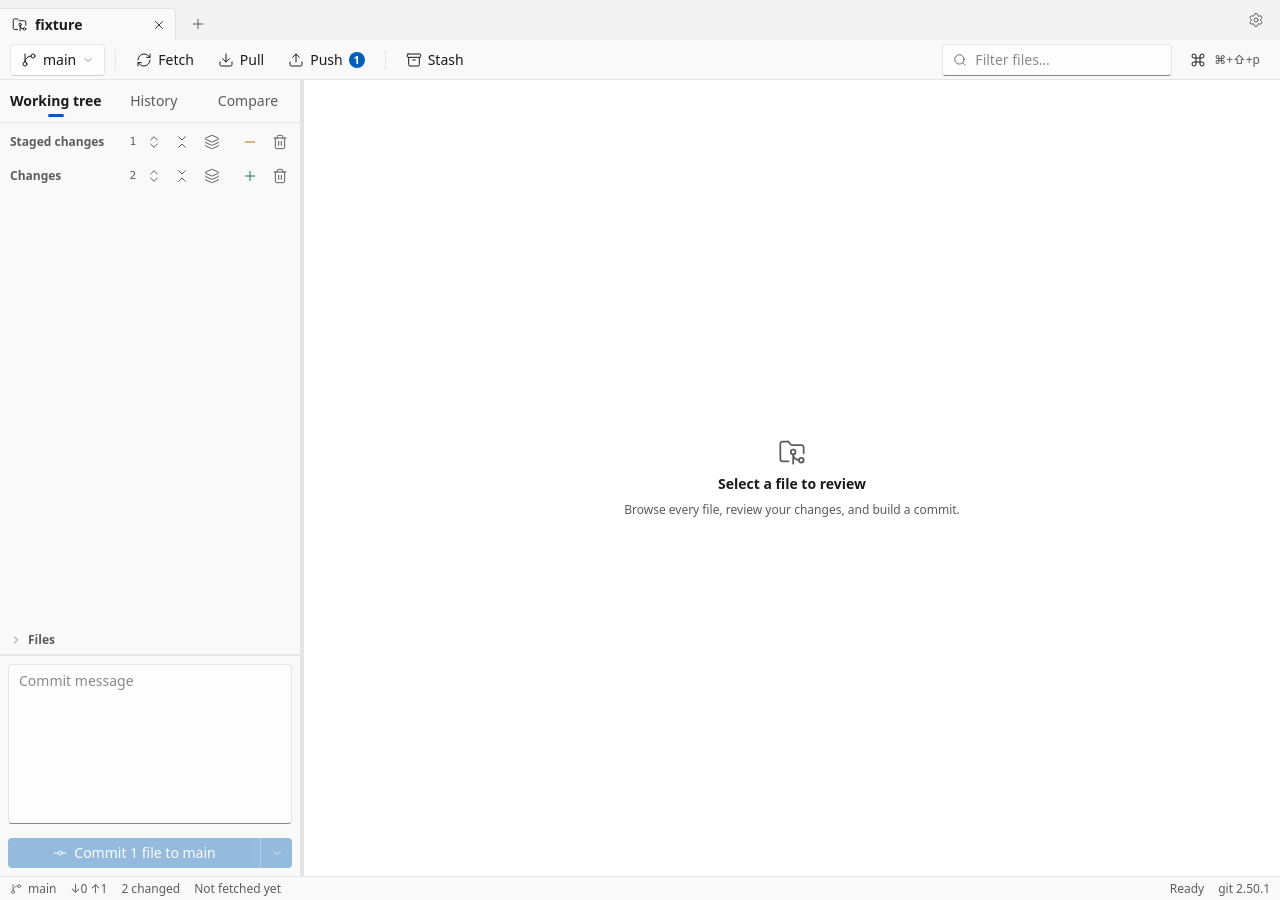
repository workflows › names a stash from its dialog and falls back to the default name
The image size is (1280, 900).
Click the button titled "Stash changes": (435, 60) [396,44,474,76]
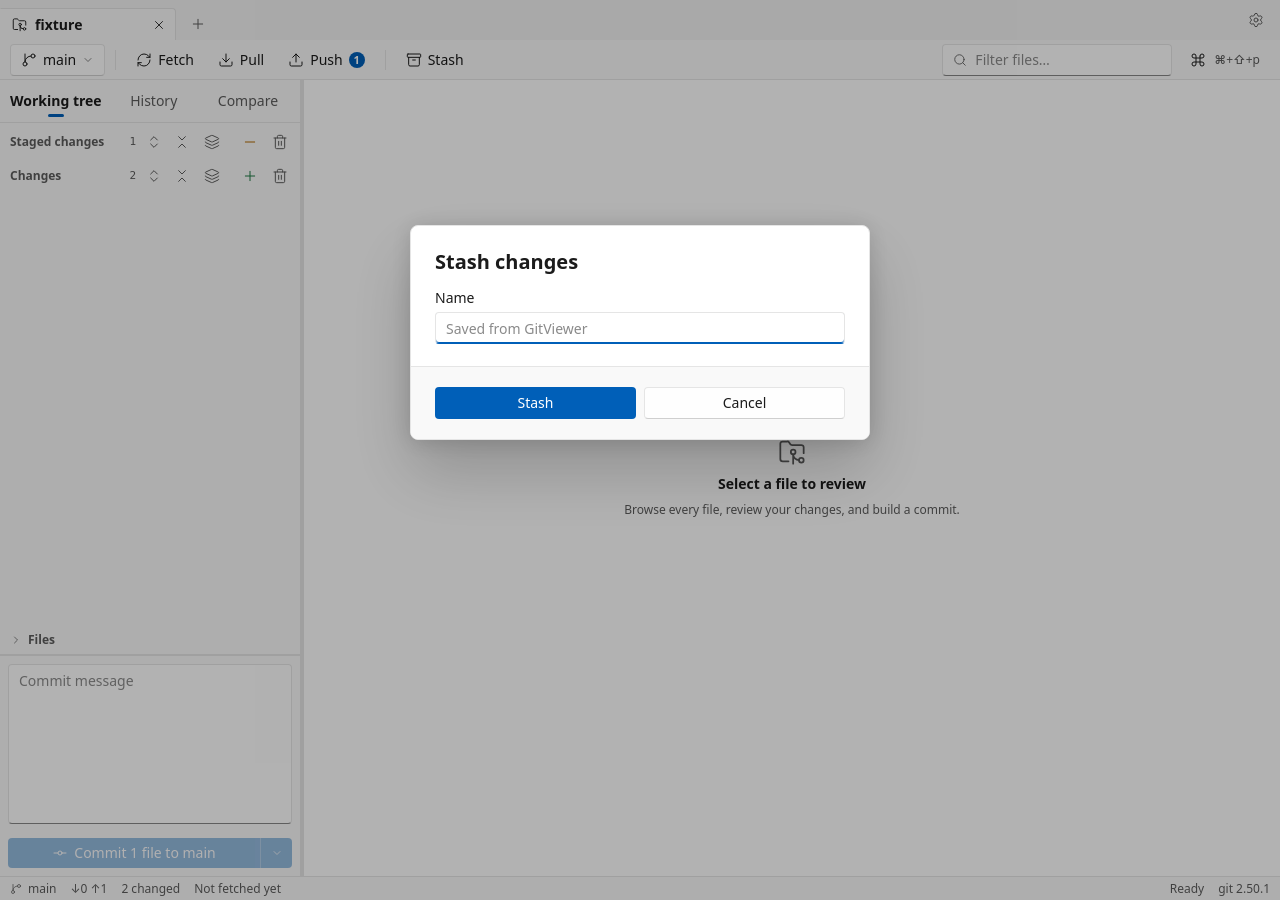
Click the button "Cancel": (744, 403) [644,387,845,419]
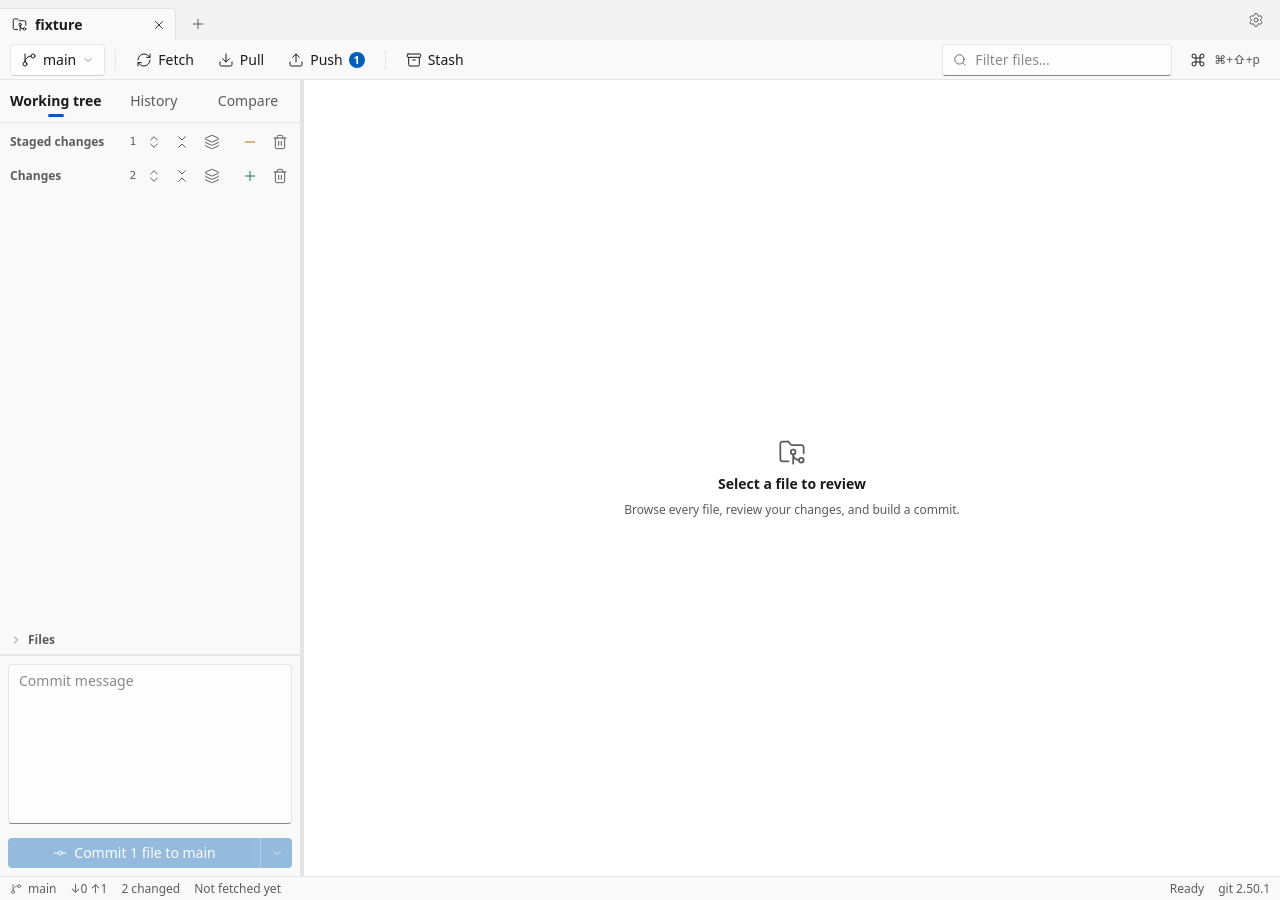
Click the button titled "Stash changes": (435, 60) [396,44,474,76]
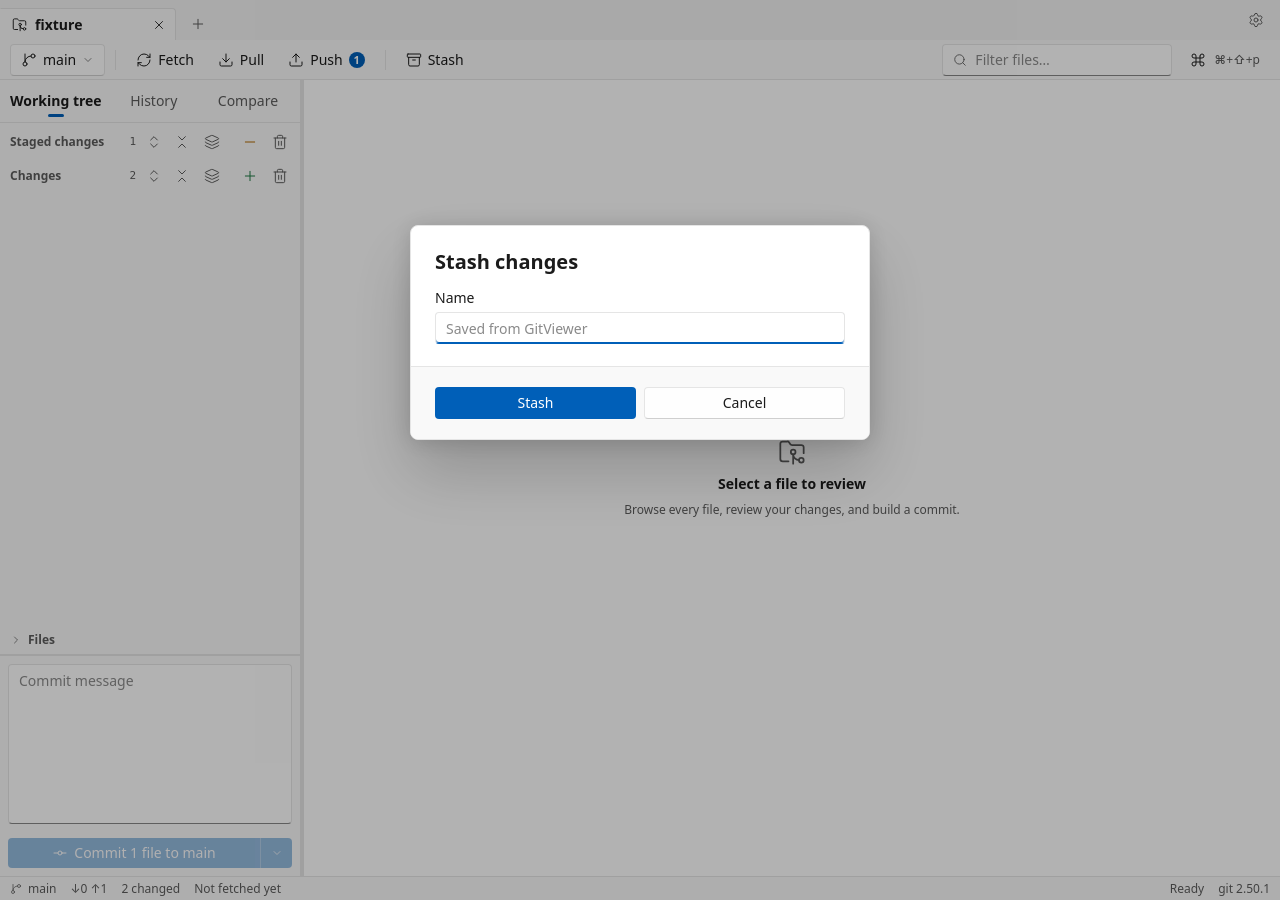
Click the button "Stash": (536, 403) [435,387,636,419]
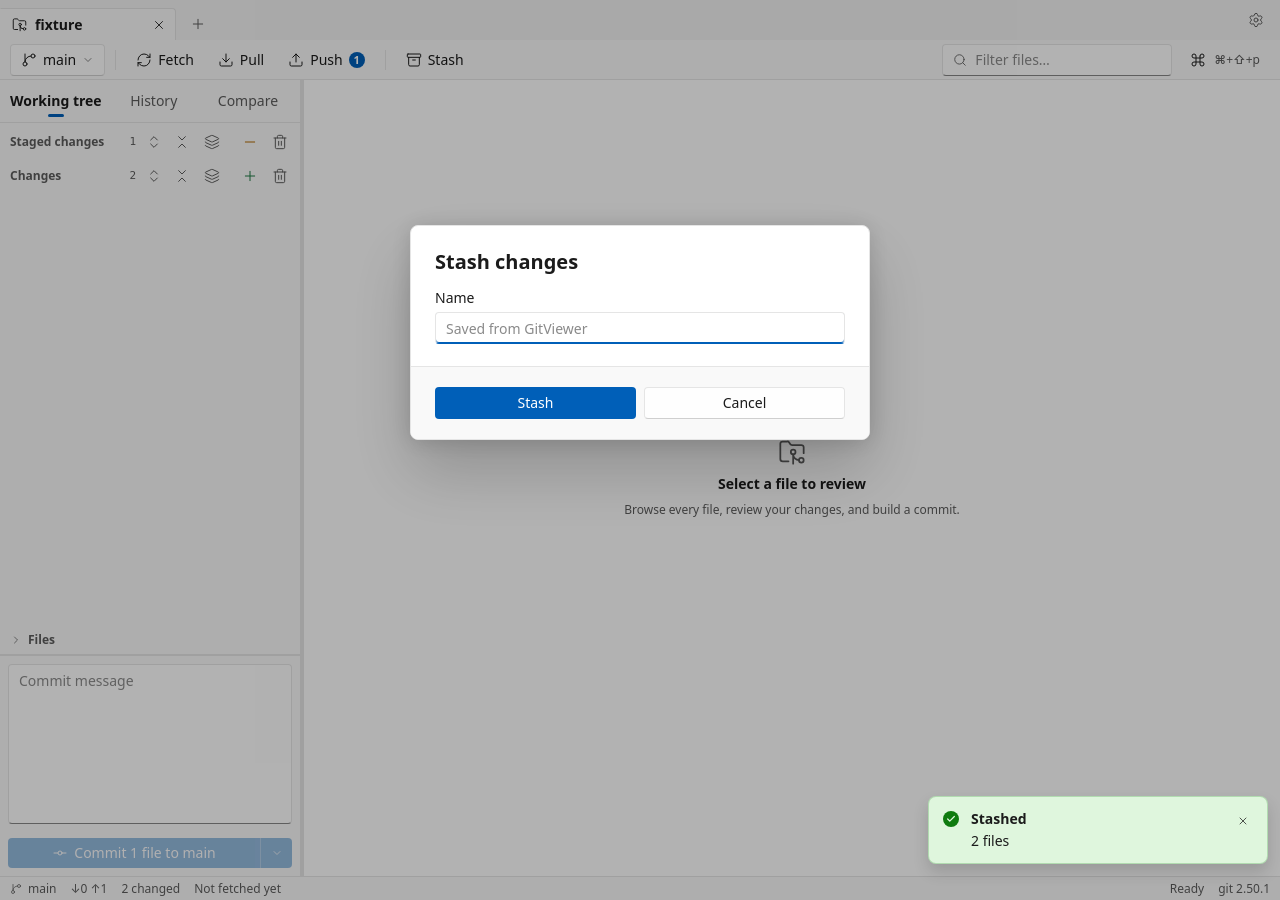
Type keys "  WIP login  {Enter}"
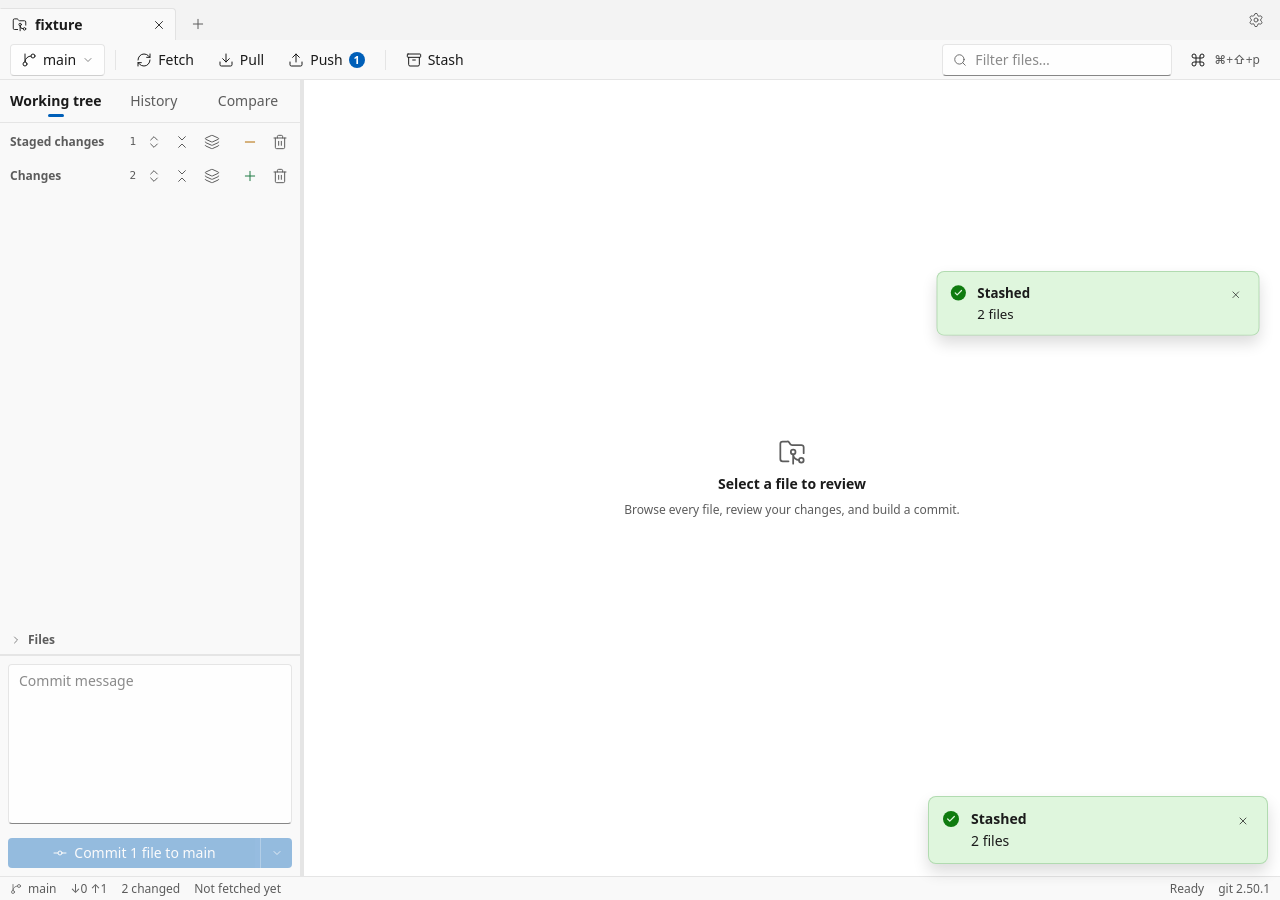
Check: the dialog is gone
